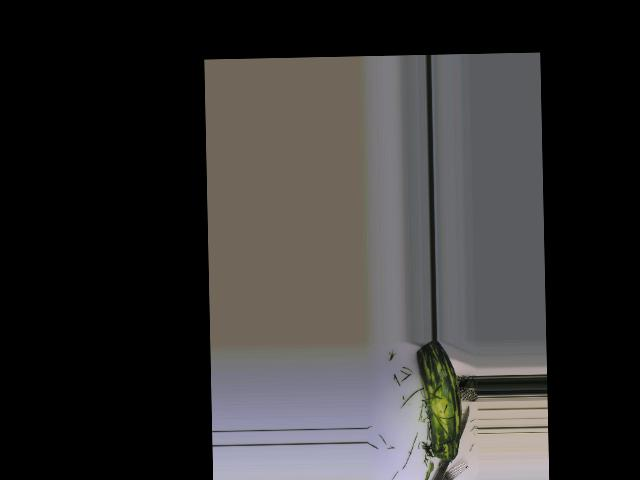cucumber: (415, 340, 462, 461)
